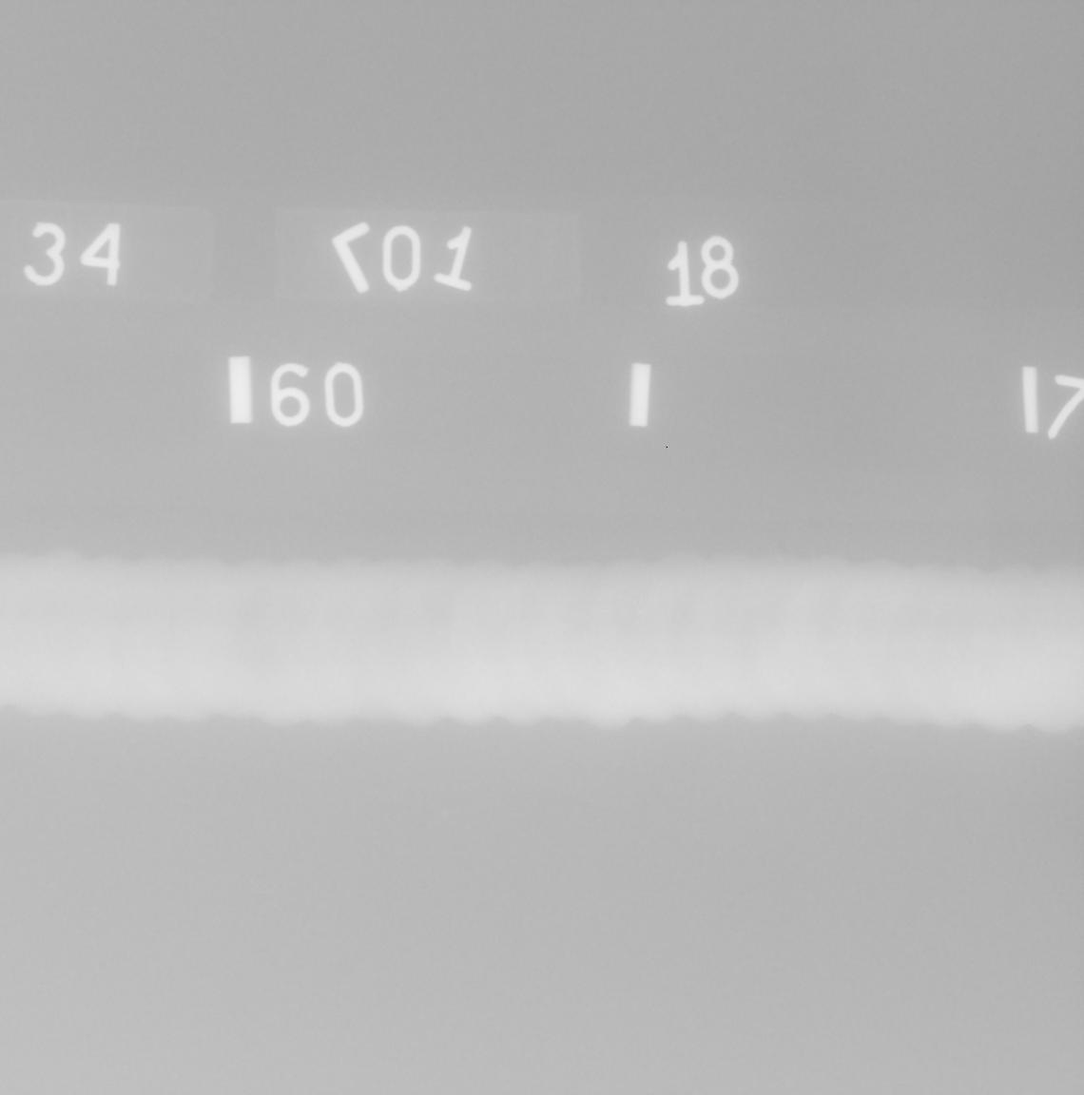Pore/Porosity: (541, 641, 547, 646)
